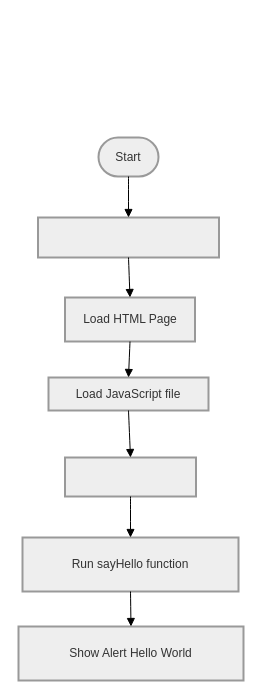
Some shapes in this 261 by 698 pixel diagram are drawn without their labels. The box of each missing label's shape, as (x1, y1, x2, y2) in pixels:
Click Button: (64, 456, 196, 497)
Open Home Page: (36, 216, 220, 258)
